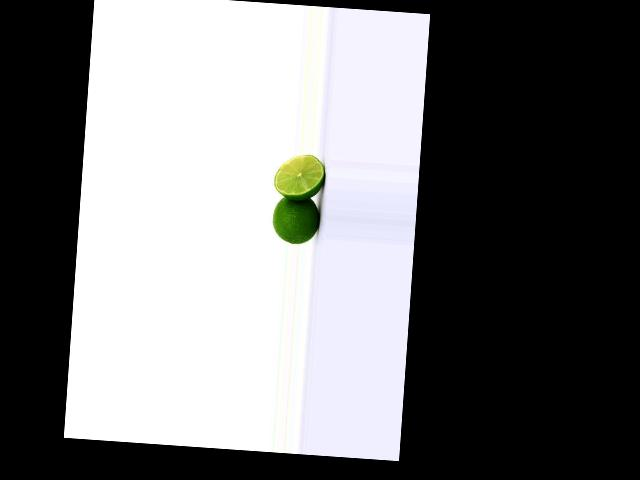lemon: (270, 194, 324, 247)
